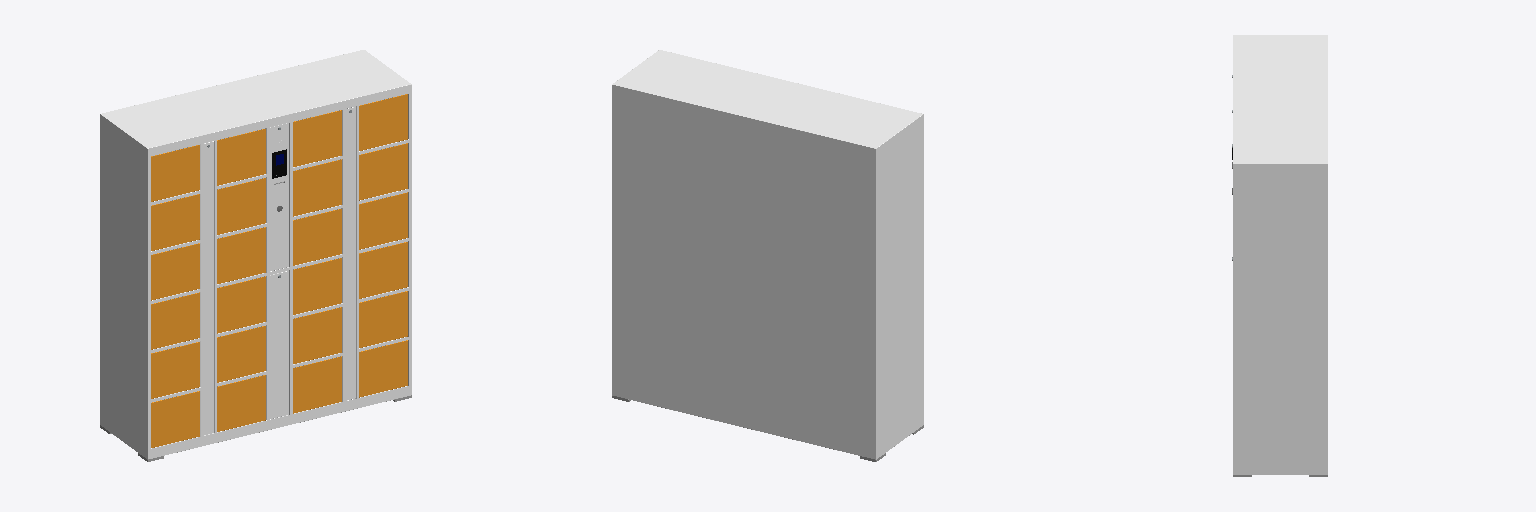
The model's file is cbg.obj.
3 views of the same model, side by side, from view 1: azimuth 30°, elevation 25°; view 2: azimuth 150°, elevation 25°; view 3: azimuth 270°, elevation 25° (orthographic).
Parts seen in each view (by area): view 1: 实体1, 实体30, 实体31, 实体32, 实体41, 实体13, 实体14, 实体15, 实体16, 实体17, 实体18, 实体19 (+17 smaller); view 2: 实体1; view 3: 实体1.
Part boxes in pixels (left/top/right/bottom): 实体1: left=100, top=50, right=411, bottom=459; 实体30: left=203, top=141, right=213, bottom=435; 实体31: left=345, top=107, right=355, bottom=400; 实体32: left=270, top=271, right=288, bottom=418; 实体41: left=270, top=123, right=288, bottom=270; 实体13: left=151, top=194, right=199, bottom=250; 实体14: left=151, top=243, right=199, bottom=300; 实体15: left=151, top=292, right=199, bottom=349; 实体16: left=151, top=342, right=199, bottom=398; 实体17: left=151, top=391, right=199, bottom=447; 实体18: left=359, top=94, right=407, bottom=150; 实体19: left=359, top=143, right=407, bottom=200; 实体1: left=612, top=50, right=923, bottom=459; 实体1: left=1233, top=35, right=1327, bottom=474.
Size of the model in its own units: 1600 by 1815 by 502.